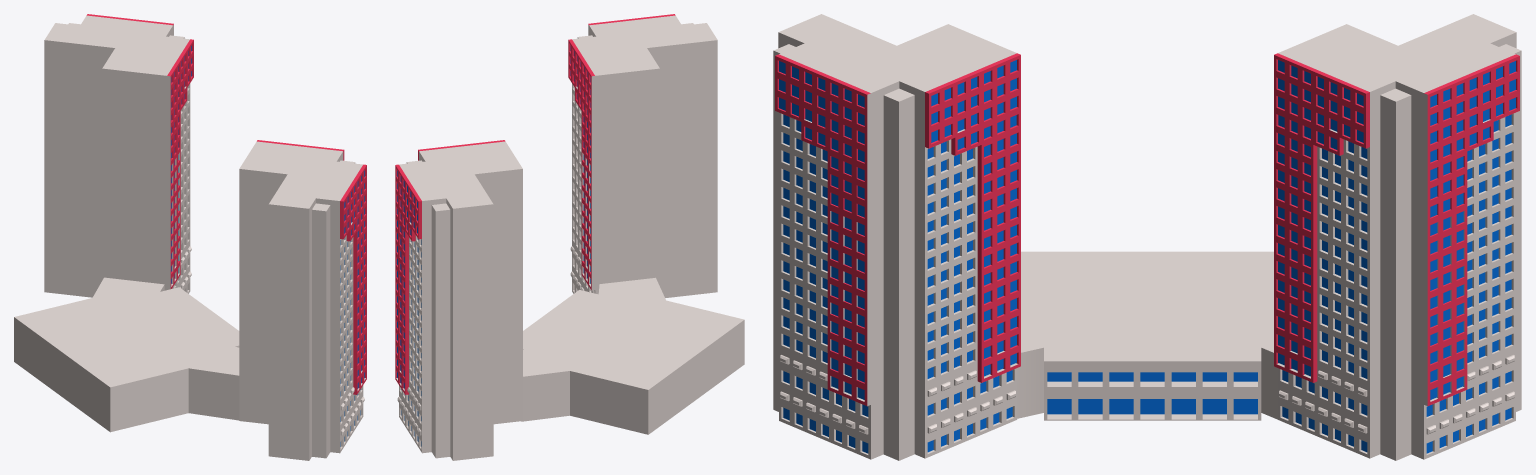
The model's file is 창의관.fbx.
The picture shows the model from 3 angles, left to right: view 1: azimuth 30°, elevation 25°; view 2: azimuth 150°, elevation 25°; view 3: azimuth 270°, elevation 25°; orthographic projection. The views are drawn at different scales.
Parts seen in each view (by area): view 1: 창의관1, Cube_156; view 2: 창의관1, Cube_156, Cube_162, Cube_159_2; view 3: 창의관1, Cube_156, Cube_159_2, Cube_159_3, Cube_162, Cube_162_2, Cube_159, Cube_160, Cube_160_2, Cube_161, Cube_161_2.
Part boxes in pixels (bbox=[...]): 창의관1: bbox=[44, 14, 366, 460]; Cube_156: bbox=[14, 277, 239, 432]; 창의관1: bbox=[395, 14, 717, 460]; Cube_156: bbox=[521, 277, 744, 434]; Cube_162: bbox=[397, 220, 404, 388]; Cube_159_2: bbox=[401, 238, 421, 446]; 창의관1: bbox=[773, 14, 1521, 460]; Cube_156: bbox=[1017, 251, 1277, 420]; Cube_159_2: bbox=[783, 114, 1511, 453]; Cube_159_3: bbox=[927, 141, 1367, 452]; Cube_162: bbox=[831, 156, 1463, 399]; Cube_162_2: bbox=[984, 133, 1310, 376]; Cube_159: bbox=[1047, 372, 1257, 414]; Cube_160: bbox=[779, 61, 1515, 143]; Cube_160_2: bbox=[931, 60, 1363, 142]; Cube_161: bbox=[805, 127, 1489, 162]; Cube_161_2: bbox=[957, 115, 1337, 149].
Bounding box in the file's own units: 964 × 1131 × 2080.
